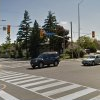crosswalk: (0, 70, 100, 100)
